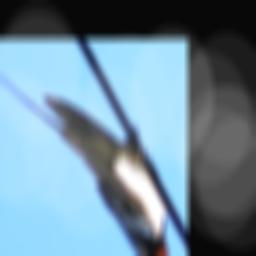Swallow: (0, 65, 177, 256)
